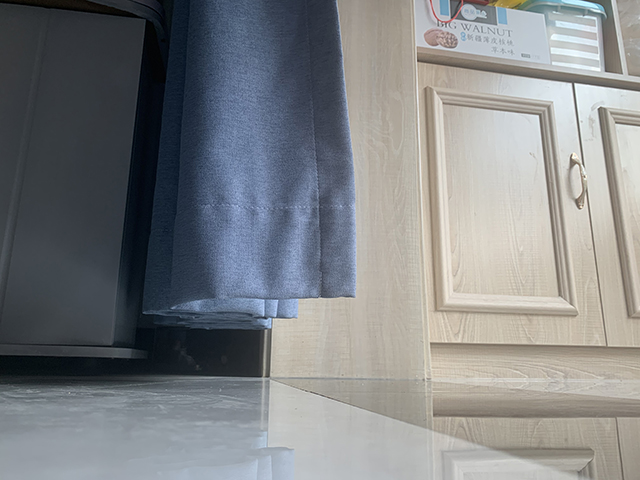cabinet: (416, 42, 639, 381)
curtain: (140, 1, 358, 333)
